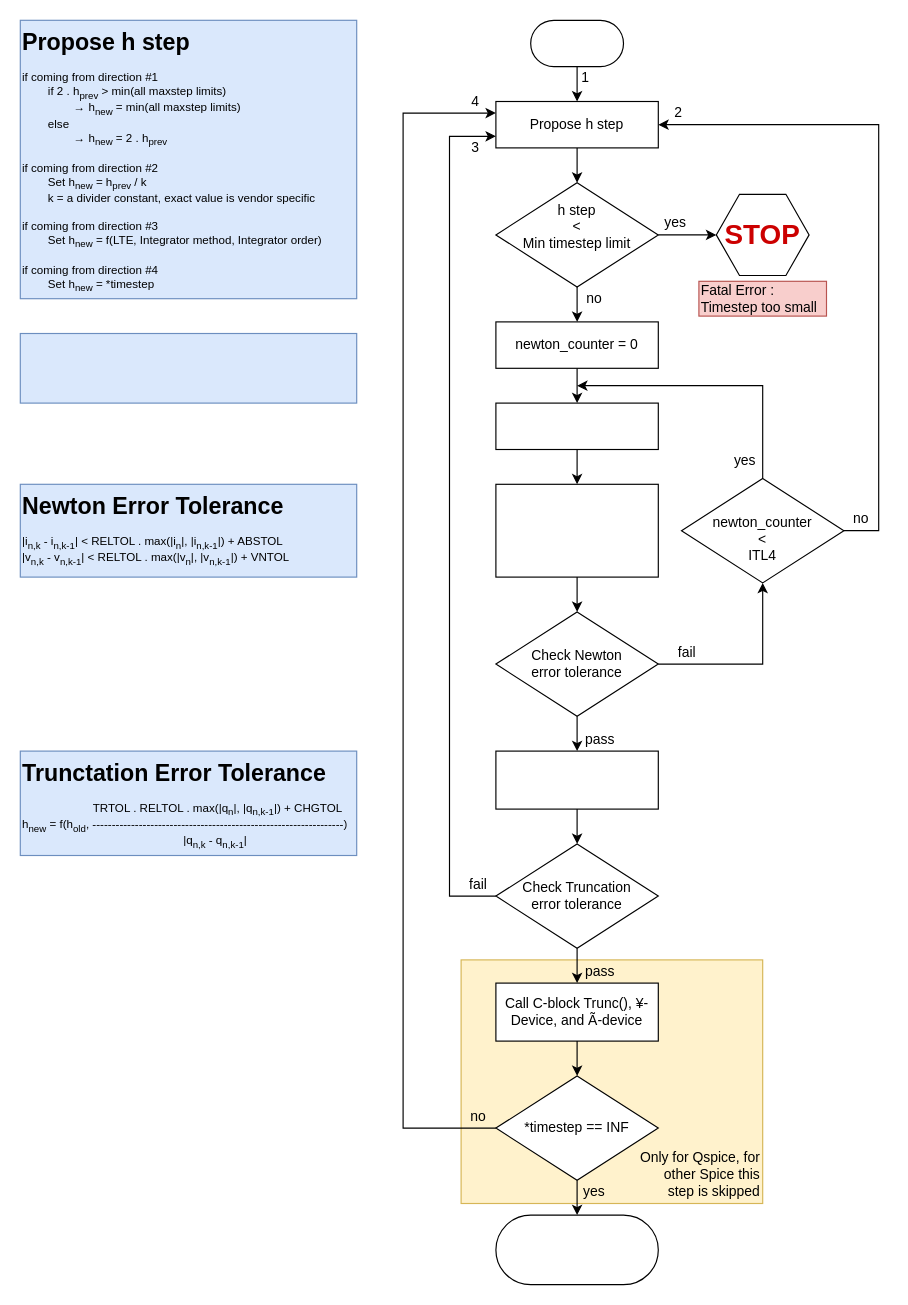
This 908x1305 diagram has some shape labels left out. The shapes that lost their labels are listed below. From the top down, each one's centre as x and y in pixels, then its label:
At (x=577, y=43): "START at T".
At (x=188, y=367): "Min Timestep Limit h step < min(1E-18, 1E-9 x TSTOP)".
At (x=576, y=425): "newton_counter++".
At (x=576, y=530): "Perform Nonlinear Solver (Newton Rhapson) obtain node voltage and branch current".
At (x=576, y=779): "Perform numerical integration (Gear or Trap)".
At (x=576, y=1249): "End at T+h commit to new timestep then move on".
